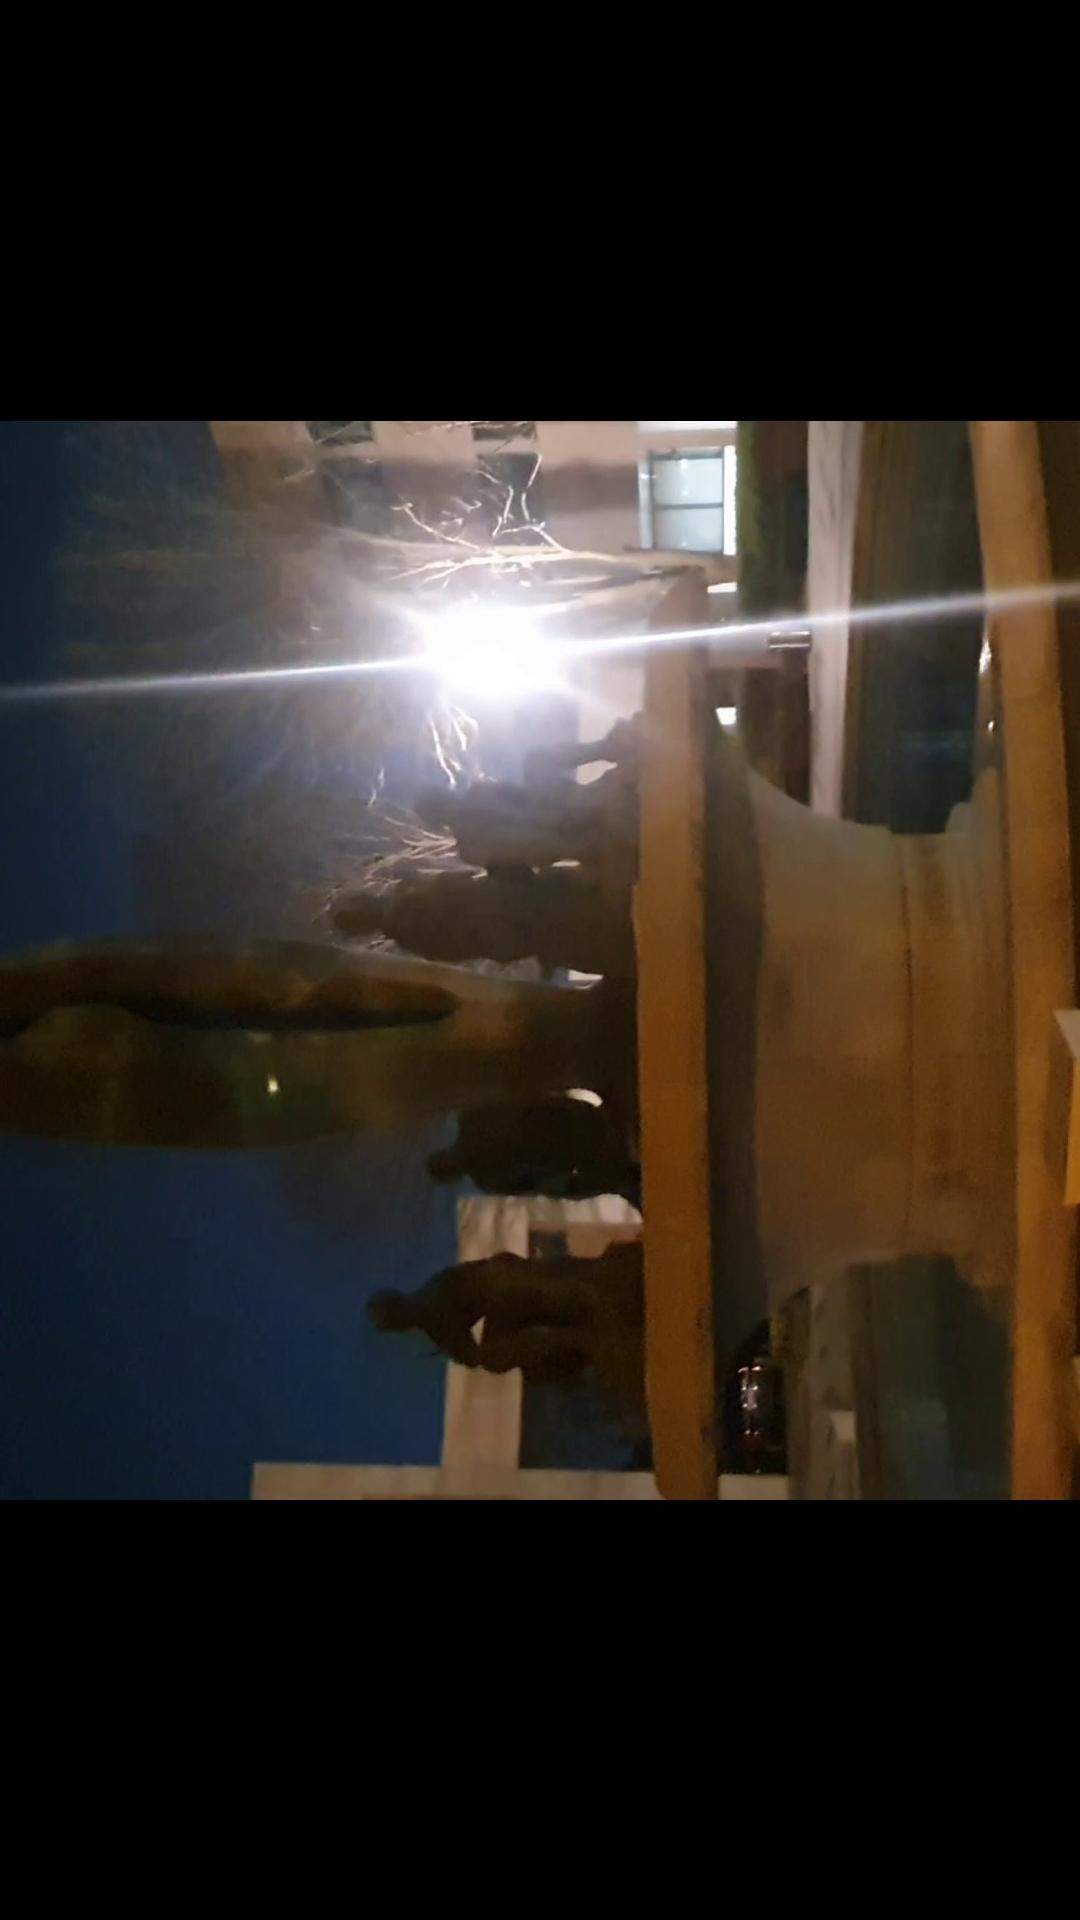Box: (1038, 1007, 1080, 1212), (1050, 1352, 1080, 1455)
